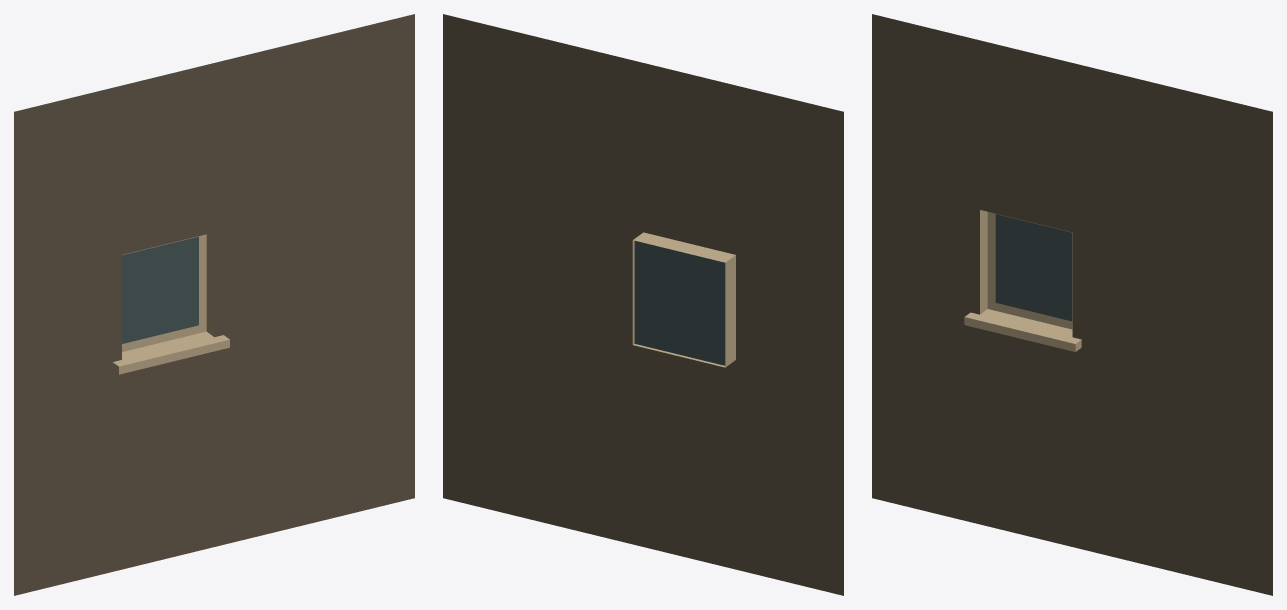
File: top-w4.fbx
3 views of the same model, side by side, from view 1: azimuth 30°, elevation 25°; view 2: azimuth 150°, elevation 25°; view 3: azimuth 330°, elevation 25° (orthographic).
Visible parts, largest first — view 1: a2015/400/top-w4; view 2: a2015/400/top-w4; view 3: a2015/400/top-w4.
Part boxes in pixels (x1,y1,x2,y2): a2015/400/top-w4: (14, 14, 414, 595); a2015/400/top-w4: (443, 14, 843, 595); a2015/400/top-w4: (872, 14, 1272, 595).
Size of the model in its own units: 2.6 by 3 by 0.19.
